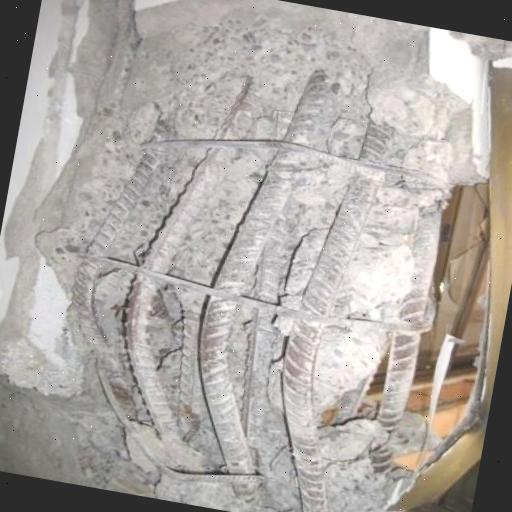spalling: (60, 16, 471, 507)
